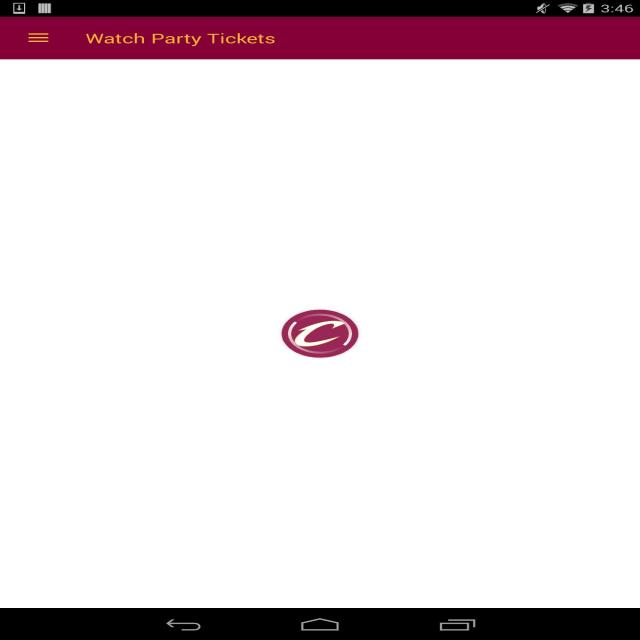button: (24, 26, 56, 52)
image: (280, 310, 361, 361)
text: (84, 32, 285, 49)
